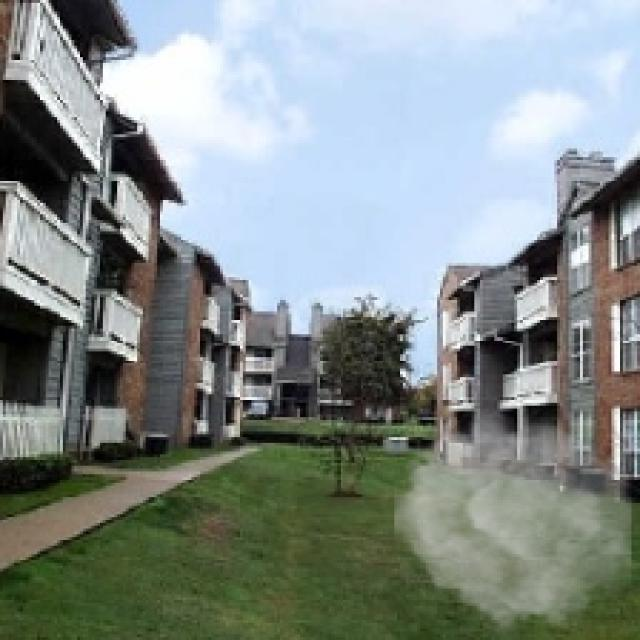Smoke: (394, 406, 632, 638)
